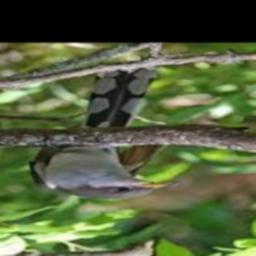Cuckoo: (28, 67, 181, 200)
